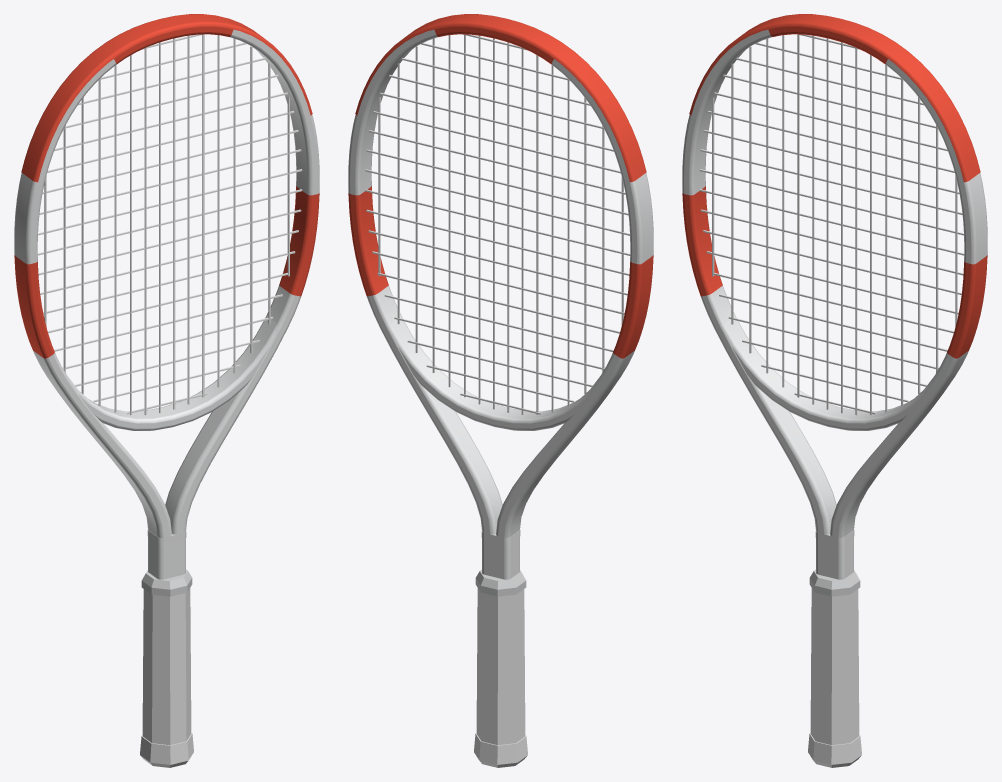
Rendered from babolat-pure-strike-junior-25-2019gen.glb.
3 views of the same model, side by side, from view 1: azimuth 30°, elevation 25°; view 2: azimuth 150°, elevation 25°; view 3: azimuth 330°, elevation 25° (orthographic).
Visible parts, largest first — view 1: frame, strings_mains, strings_crosses, grip, bumper, butt_cap, collar; view 2: frame, strings_mains, strings_crosses, grip, bumper, butt_cap, collar; view 3: frame, strings_mains, strings_crosses, grip, bumper, butt_cap, collar.
Boxes of the visible parts, x1=… form: frame: x1=14, y1=26, x2=319, y2=579; strings_mains: x1=44, y1=34, x2=289, y2=415; strings_crosses: x1=37, y1=34, x2=302, y2=414; grip: x1=142, y1=588, x2=191, y2=745; bumper: x1=21, y1=14, x2=312, y2=182; butt_cap: x1=140, y1=733, x2=193, y2=767; collar: x1=141, y1=569, x2=192, y2=596; frame: x1=348, y1=26, x2=653, y2=579; strings_mains: x1=378, y1=35, x2=623, y2=414; strings_crosses: x1=365, y1=34, x2=630, y2=414; grip: x1=476, y1=588, x2=525, y2=745; bumper: x1=355, y1=14, x2=646, y2=182; butt_cap: x1=474, y1=733, x2=527, y2=767; collar: x1=475, y1=569, x2=526, y2=596; frame: x1=682, y1=26, x2=987, y2=579; strings_mains: x1=712, y1=34, x2=957, y2=415; strings_crosses: x1=699, y1=34, x2=964, y2=414; grip: x1=810, y1=588, x2=859, y2=745; bumper: x1=689, y1=14, x2=980, y2=182; butt_cap: x1=808, y1=733, x2=861, y2=767; collar: x1=809, y1=569, x2=860, y2=596.
Size of the model in its own units: 0.2658 by 0.6353 by 0.0396.
